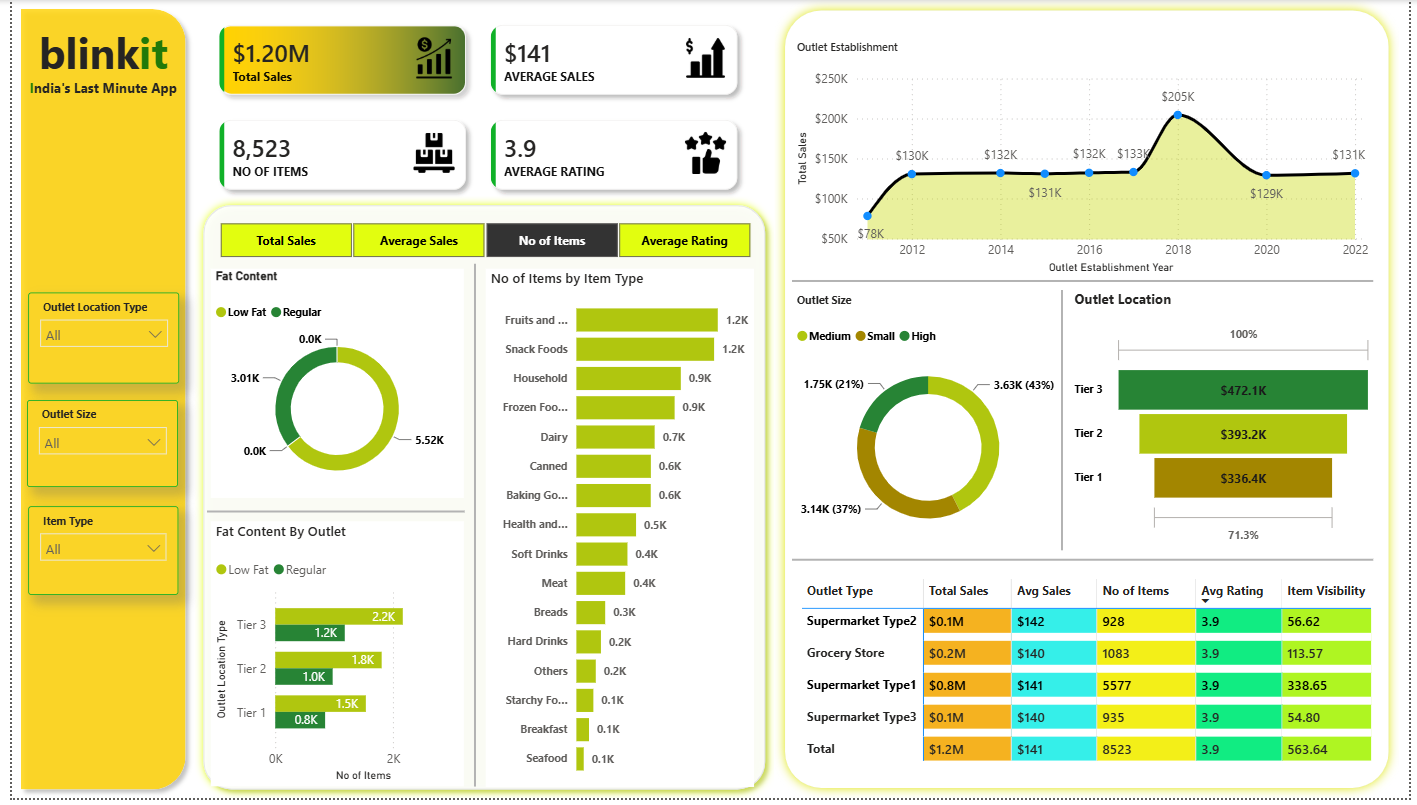

The page's visual inventory and layout, read from the dashboard file:
{"tool":"powerbi","page":{"name":"Page 1","canvas":[1400,800],"ordinal":0},"visuals":[{"type":"shape","box":[0,0,182.9,800],"z":0},{"type":"textbox","box":[0,18,183.1,94.6],"z":1000},{"type":"cardVisual","fields":{"Data":["BlinkIT Grocery Data.Total Sales","BlinkIT Grocery Data.Average Sales","BlinkIT Grocery Data.No of Items","BlinkIT Grocery Data.Average Rating"]},"box":[183.4,0,570.7,216],"z":2000},{"type":"shape","box":[183.1,196.6,580.8,603.3],"z":3000},{"type":"donutChart","title":"Fat Content","fields":{"Y":["BlinkIT Grocery Data.No of Items","BlinkIT Grocery Data.Average Rating"],"Category":["BlinkIT Grocery Data.Item Fat Content"]},"box":[199.6,268.7,253.6,250],"z":4000},{"type":"slicer","fields":{"Values":["Metrics.Metrics"]},"box":[183.1,216.1,580.8,48],"z":5000},{"type":"cardVisual","fields":{"Data":["BlinkIT Grocery Data.Total Sales"]},"box":[858.6,510,91.4,52.9],"z":6000},{"type":"clusteredBarChart","title":"Fat Content By Outlet","fields":{"Y":["BlinkIT Grocery Data.No of Items"],"Category":["BlinkIT Grocery Data.Outlet Location Type"],"Series":["BlinkIT Grocery Data.Item Fat Content"]},"box":[199.6,522.3,253.6,265.7],"z":7000},{"type":"barChart","fields":{"Y":["BlinkIT Grocery Data.No of Items"],"Category":["BlinkIT Grocery Data.Item Type"]},"box":[474.6,269.3,279.3,518.5],"z":8000},{"type":"shape","box":[763.9,0,625.9,800],"z":9000},{"type":"lineChart","title":" Outlet Establishment ","fields":{"Y":["BlinkIT Grocery Data.Total Sales"],"Category":["BlinkIT Grocery Data.Outlet Establishment Year"]},"box":[781.9,40.5,582.3,238.6],"z":10000},{"type":"funnel","title":"Outlet Location ","fields":{"Y":["BlinkIT Grocery Data.Total Sales"],"Category":["BlinkIT Grocery Data.Outlet Location Type"]},"box":[1059.6,291.2,309.2,259.6],"z":11000},{"type":"pivotTable","fields":{"Rows":["BlinkIT Grocery Data.Outlet Type"],"Values":["BlinkIT Grocery Data.Total Sales","BlinkIT Grocery Data.Average Sales","BlinkIT Grocery Data.No of Items","BlinkIT Grocery Data.Average Rating","Sum(BlinkIT Grocery Data.Item Visibility)"]},"box":[786.5,574.8,582.3,213.1],"z":12000},{"type":"donutChart","title":"Outlet Size","fields":{"Y":["CountNonNull(BlinkIT Grocery Data.Outlet Location Type)"],"Category":["BlinkIT Grocery Data.Outlet Size"]},"box":[781.9,292.7,273.2,259.6],"z":13000},{"type":"slicer","fields":{"Values":["BlinkIT Grocery Data.Outlet Location Type"]},"box":[16.5,292.7,151.6,91.6],"z":14000},{"type":"slicer","fields":{"Values":["BlinkIT Grocery Data.Outlet Size"]},"box":[15,400.7,151.6,87.1],"z":15000},{"type":"slicer","fields":{"Values":["BlinkIT Grocery Data.Item Type"]},"box":[16.5,507.3,150.1,88.6],"z":16000},{"type":"shape","box":[195.1,507.3,258.1,10.5],"z":17000},{"type":"shape","box":[781.9,271.7,582.3,19.5],"z":18000},{"type":"shape","box":[453.3,264.2,21,523.8],"z":19000},{"type":"shape","box":[1047.6,291.2,7.5,261.2],"z":20000},{"type":"shape","box":[781.9,550.8,582.3,19.5],"z":21000}]}

Visuals, with their boxes in screenshot pixels (x1, y1, x2, y2), scaled from the page's 1400x800 canvas onto the 1417x805 screenshot:
shape: bbox(0, 0, 185, 804)
textbox: bbox(0, 18, 185, 113)
cardVisual - BlinkIT Grocery Data.Total Sales x BlinkIT Grocery Data.Average Sales: bbox(186, 0, 763, 217)
shape: bbox(185, 198, 773, 804)
"Fat Content" donutChart: bbox(202, 270, 459, 522)
slicer - Metrics.Metrics: bbox(185, 217, 773, 266)
cardVisual - BlinkIT Grocery Data.Total Sales: bbox(869, 513, 962, 566)
"Fat Content By Outlet" clusteredBarChart: bbox(202, 526, 459, 793)
barChart - BlinkIT Grocery Data.No of Items x BlinkIT Grocery Data.Item Type: bbox(480, 271, 763, 793)
shape: bbox(773, 0, 1407, 804)
" Outlet Establishment " lineChart: bbox(791, 41, 1381, 281)
"Outlet Location " funnel: bbox(1072, 293, 1385, 554)
pivotTable - BlinkIT Grocery Data.Outlet Type x BlinkIT Grocery Data.Total Sales: bbox(796, 578, 1385, 793)
"Outlet Size" donutChart: bbox(791, 295, 1068, 556)
slicer - BlinkIT Grocery Data.Outlet Location Type: bbox(17, 295, 170, 387)
slicer - BlinkIT Grocery Data.Outlet Size: bbox(15, 403, 169, 491)
slicer - BlinkIT Grocery Data.Item Type: bbox(17, 510, 169, 600)
shape: bbox(197, 510, 459, 521)
shape: bbox(791, 273, 1381, 293)
shape: bbox(459, 266, 480, 793)
shape: bbox(1060, 293, 1068, 556)
shape: bbox(791, 554, 1381, 574)
